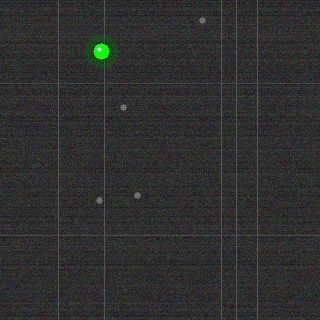green_normal: (91, 41, 111, 61)
